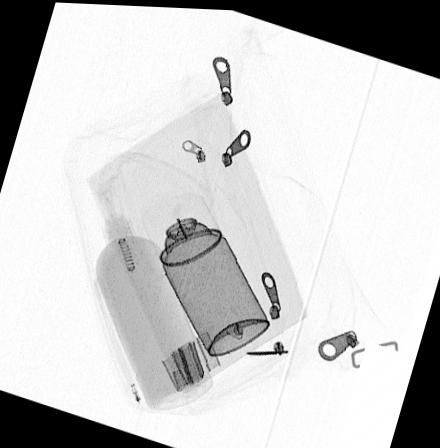Sprayer: (142, 194, 270, 354)
